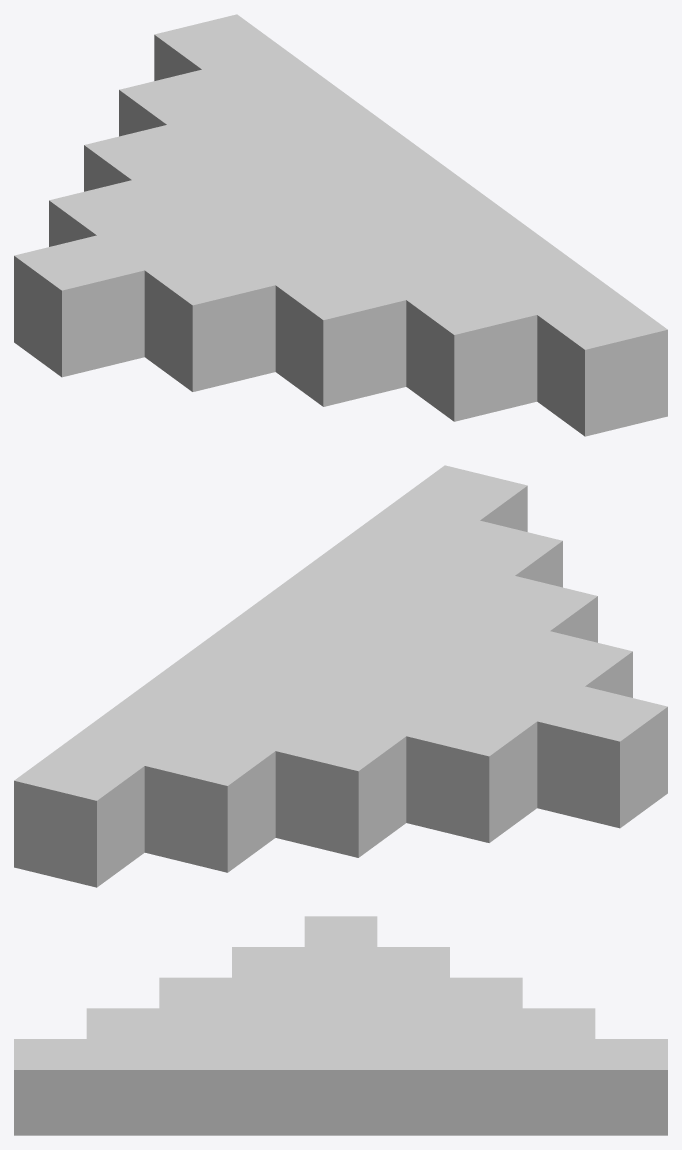
File: triangle napkin.obj
3 renders of one model, top to bottom at view 1: azimuth 30°, elevation 25°; view 2: azimuth 150°, elevation 25°; view 3: azimuth 270°, elevation 25°, orthographic. The views are drawn at different scales.
Visible parts, largest first — view 1: triangle napkin; view 2: triangle napkin; view 3: triangle napkin.
Part boxes in pixels (x1,y1,x2,y2): triangle napkin: (14, 14, 667, 436); triangle napkin: (14, 465, 667, 887); triangle napkin: (14, 916, 667, 1135).
Bounding box in the file's own units: 5 × 1 × 9.
Materials: 1 (1 with a texture image).
